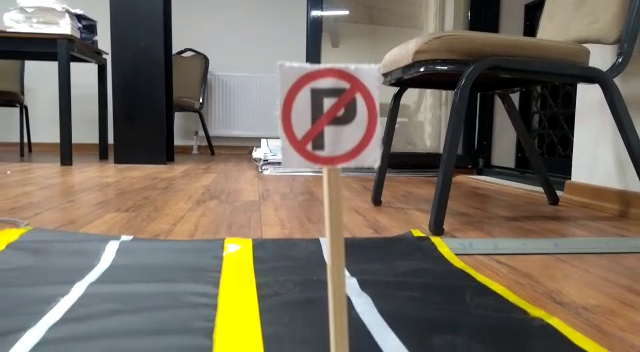park_yapilmaz: (279, 67, 382, 167)
